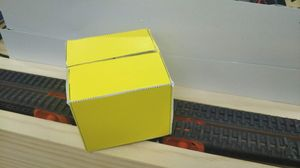box4: (63, 26, 176, 154)
